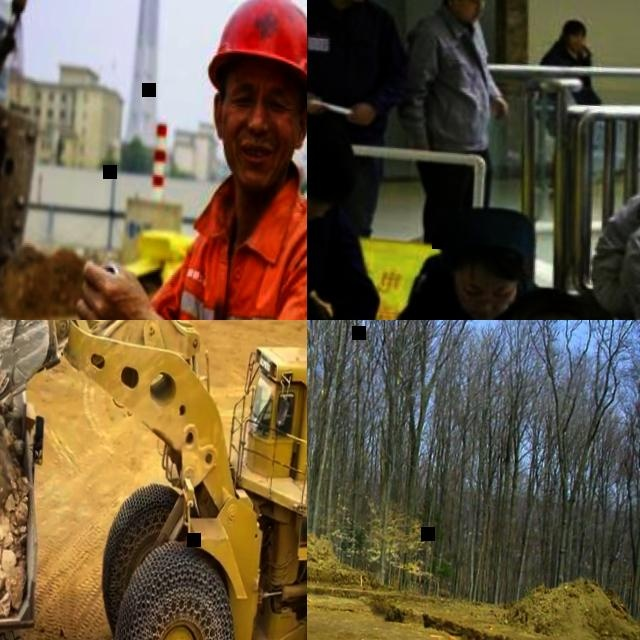Hardhat: (205, 0, 307, 105)
NO-Hardhat: (443, 214, 530, 273), (307, 113, 360, 202), (508, 281, 592, 320), (562, 17, 588, 33)
NO-Mask: (224, 123, 293, 189), (458, 298, 505, 320), (453, 0, 479, 23), (567, 36, 583, 48)
NO-Safety Vest: (414, 13, 500, 150), (307, 0, 398, 120), (593, 180, 640, 277), (412, 277, 508, 320), (541, 48, 592, 94)
Person: (17, 0, 307, 320), (388, 0, 521, 255), (307, 0, 416, 237), (355, 194, 545, 320), (528, 12, 607, 199), (585, 124, 640, 320)
Safety Vest: (158, 149, 307, 320)
machinery: (0, 320, 307, 640), (0, 0, 72, 273)
